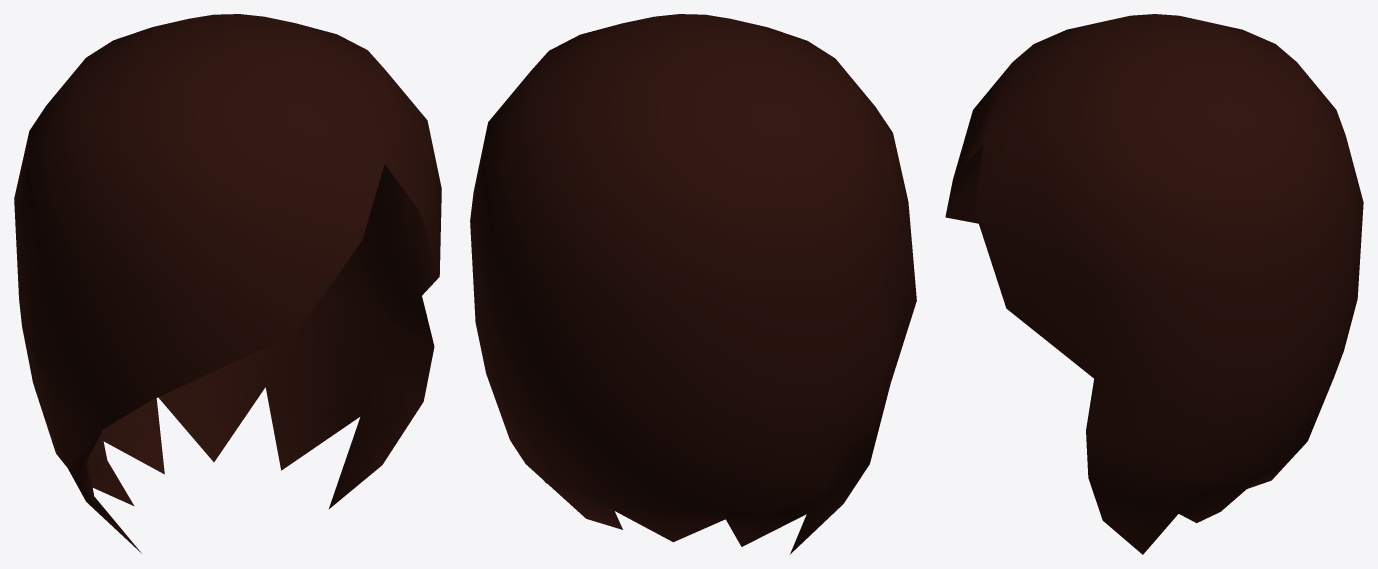
The model's file is Hair01.FBX.
3 renders of one model, left to right at view 1: azimuth 30°, elevation 25°; view 2: azimuth 150°, elevation 25°; view 3: azimuth 270°, elevation 25°, orthographic. The views are drawn at different scales.
Parts seen in each view (by area): view 1: Hair01; view 2: Hair01; view 3: Hair01.
Boxes of the visible parts, x1,y1,x2,y2 form: Hair01: [14, 14, 441, 553]; Hair01: [470, 14, 916, 554]; Hair01: [945, 14, 1363, 554].
Size of the model in its own units: 449 by 542 by 433.
